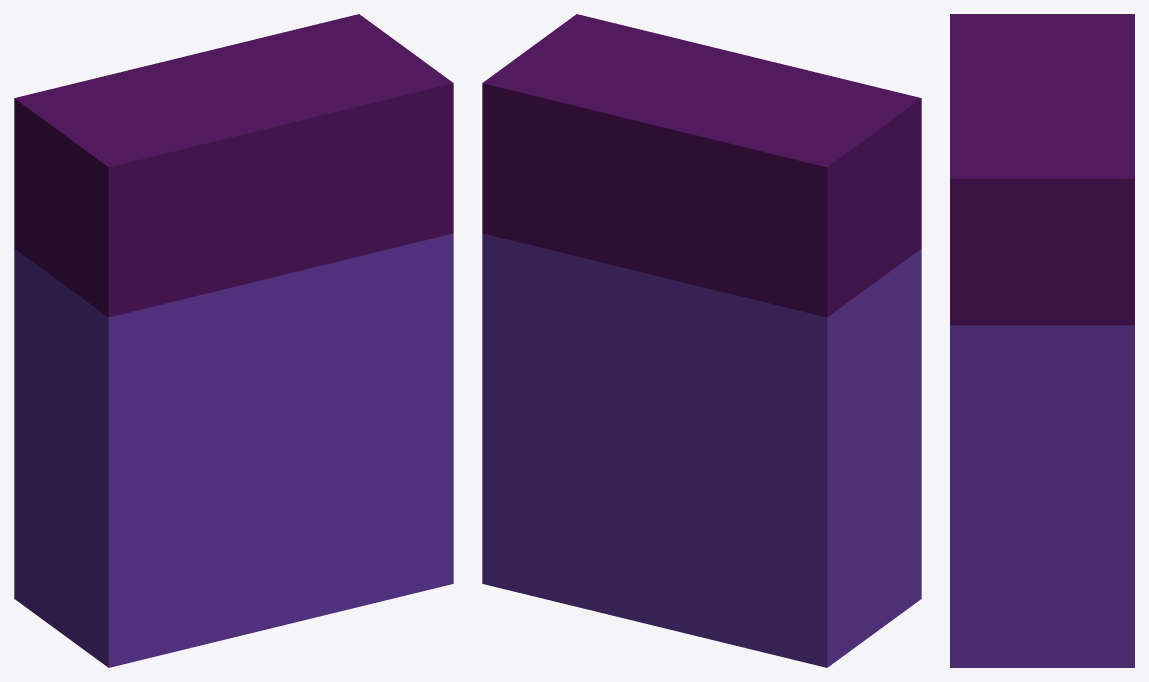
File: Ürün.fbx
3 renders of one model, left to right at view 1: azimuth 30°, elevation 25°; view 2: azimuth 150°, elevation 25°; view 3: azimuth 270°, elevation 25°, orthographic. The views are drawn at different scales.
Visible parts, largest first — view 1: pCube66; view 2: pCube66; view 3: pCube66.
Boxes of the visible parts, x1,y1,x2,y2 form: pCube66: (14,14,453,667); pCube66: (482,14,921,667); pCube66: (950,14,1134,667).
Bounding box in the file's own units: 23.51 × 32.6 × 11.16.
